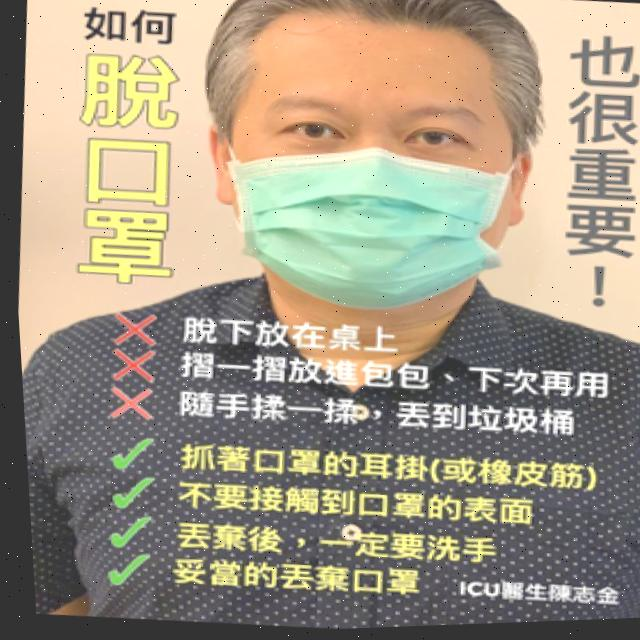Mask: (192, 114, 538, 322)
